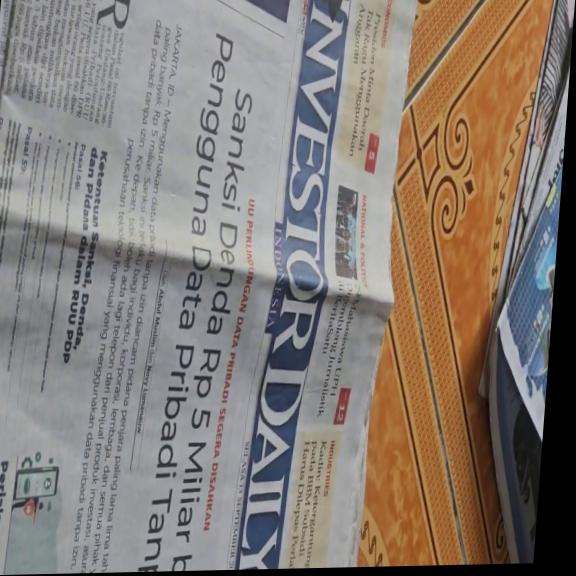Kertas: (0, 0, 419, 572)
